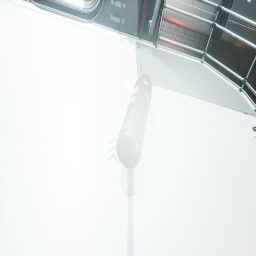NitrogenTank ,: (116, 73, 152, 169)
